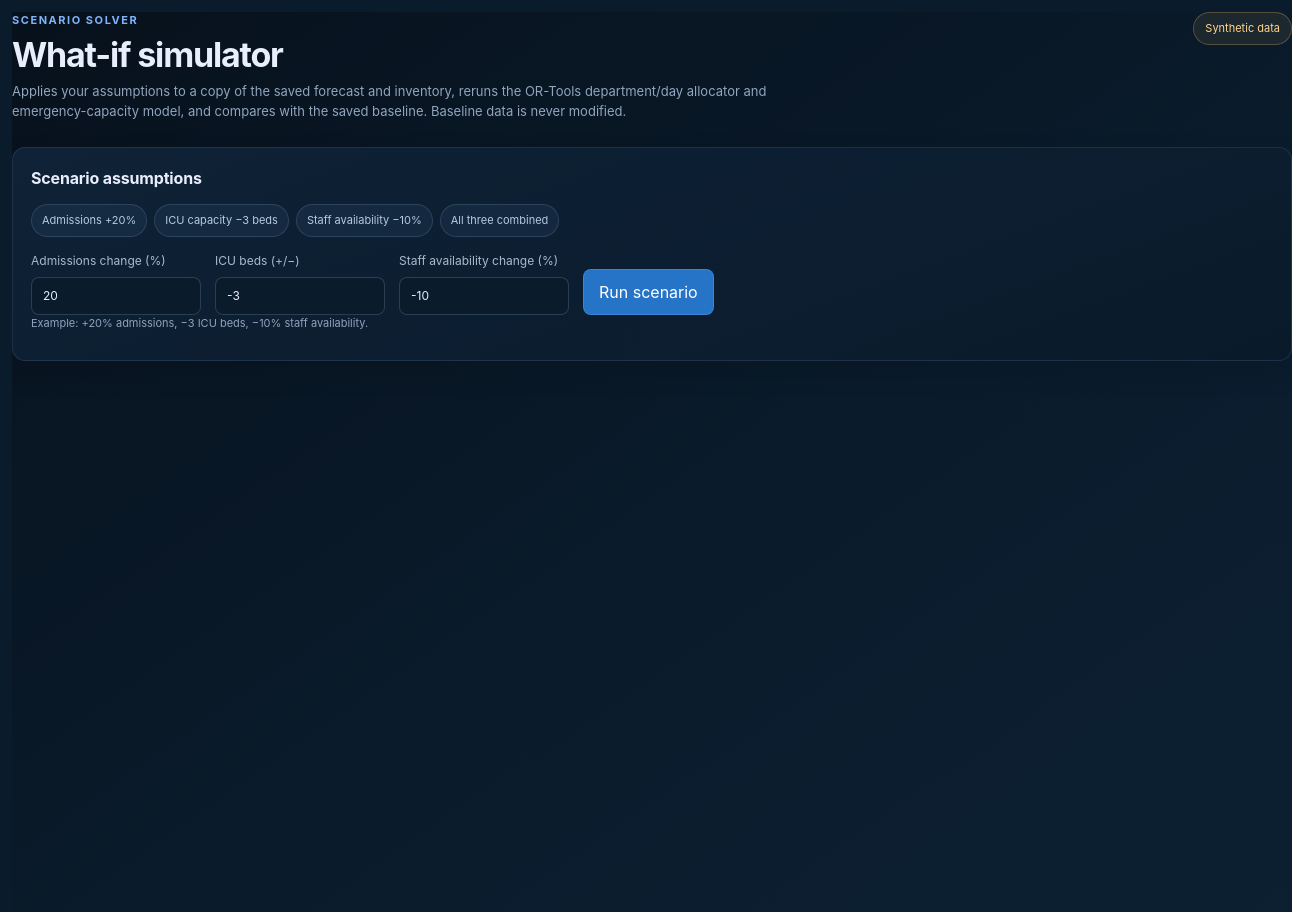
Test: SimulatorPage › submits the converted assumptions and shows whole-number results
Click the button "Run scenario": (648, 292) top-left (583, 269), bottom-right (714, 315)
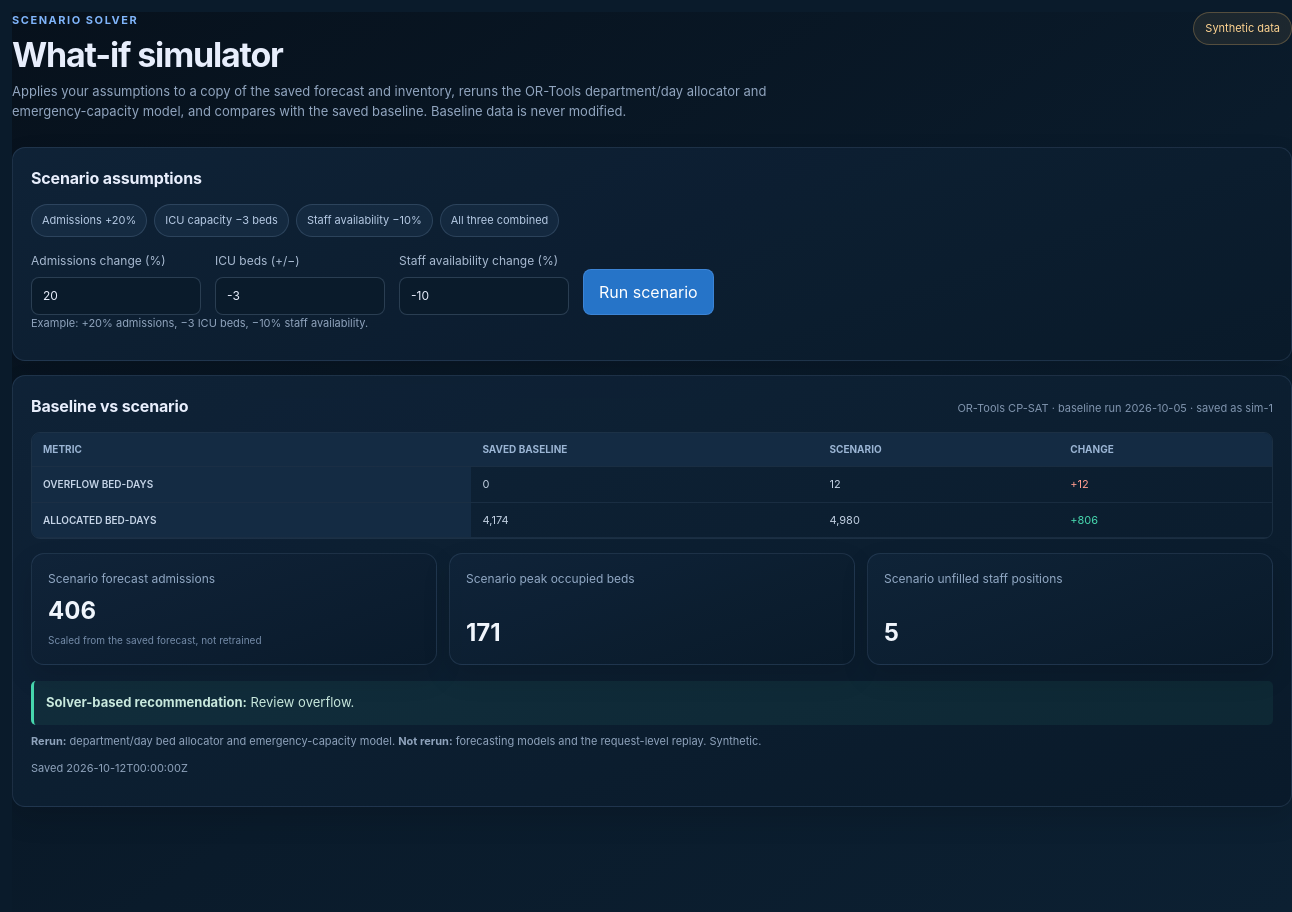
Check: the text "+12" is shown, box top-left (1059, 467), bottom-right (1272, 502)
Check: the text "406" is shown, box top-left (48, 596), bottom-right (96, 625)
